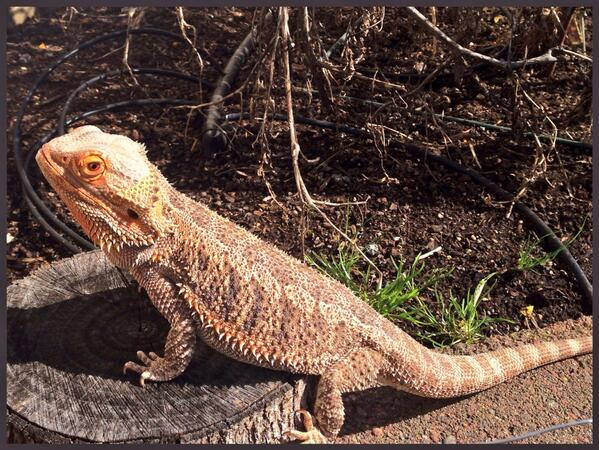bearded: (33, 125, 595, 450)
